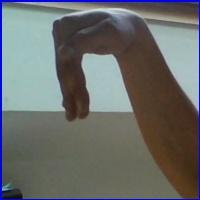del: (33, 9, 174, 123)
